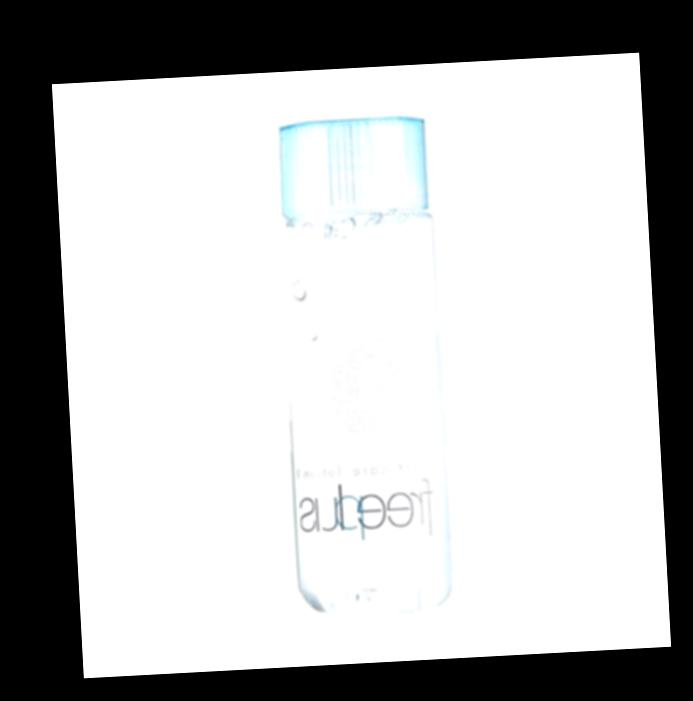cosmetic: (271, 120, 450, 619)
